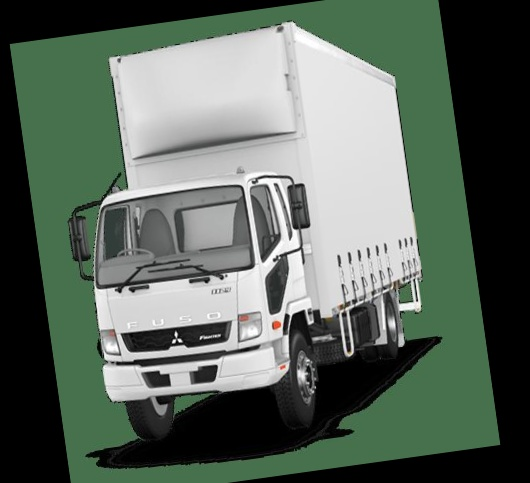truck: (59, 9, 443, 453)
